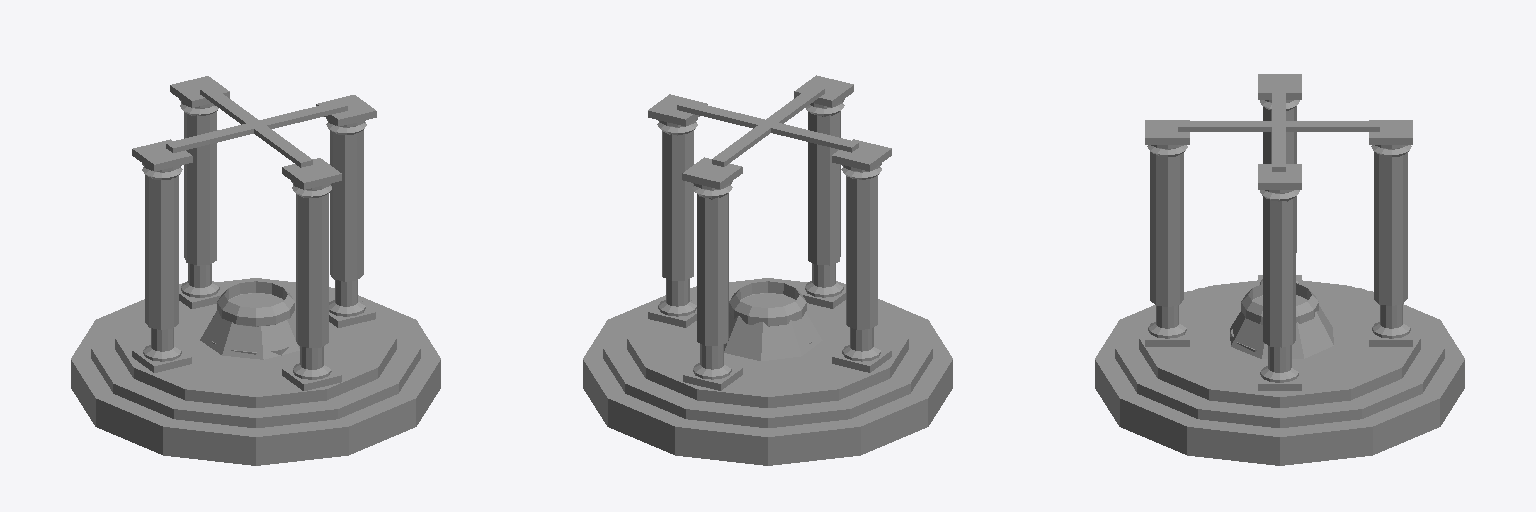
Rendered from ruinsTempleRuin2.obj.
The picture shows the model from 3 angles: view 1: azimuth 30°, elevation 25°; view 2: azimuth 150°, elevation 25°; view 3: azimuth 270°, elevation 25°; orthographic projection.
Visible parts, largest first — view 1: templeRuinTwo300; view 2: templeRuinTwo300; view 3: templeRuinTwo300.
Boxes of the visible parts, x1,y1,x2,y2 form: templeRuinTwo300: [71, 76, 440, 465]; templeRuinTwo300: [583, 75, 952, 465]; templeRuinTwo300: [1095, 74, 1464, 465].
Bounding box in the file's own units: 1826 × 1433 × 1826.